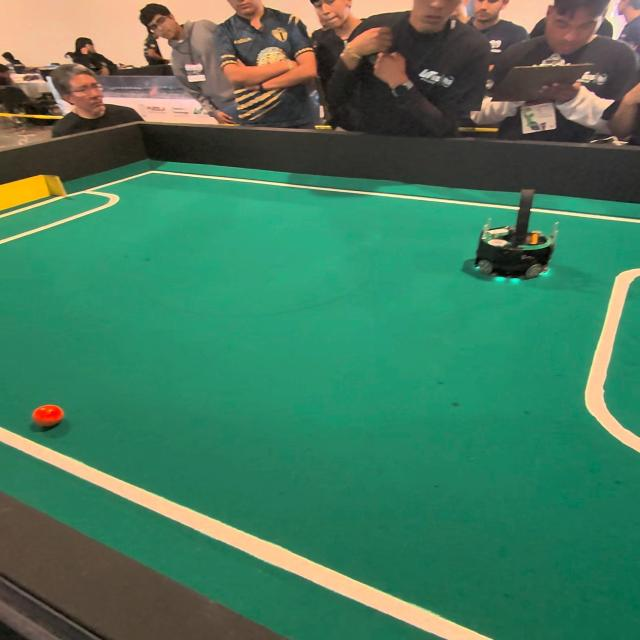Robot: (464, 184, 567, 289)
pelota: (32, 406, 64, 432)
